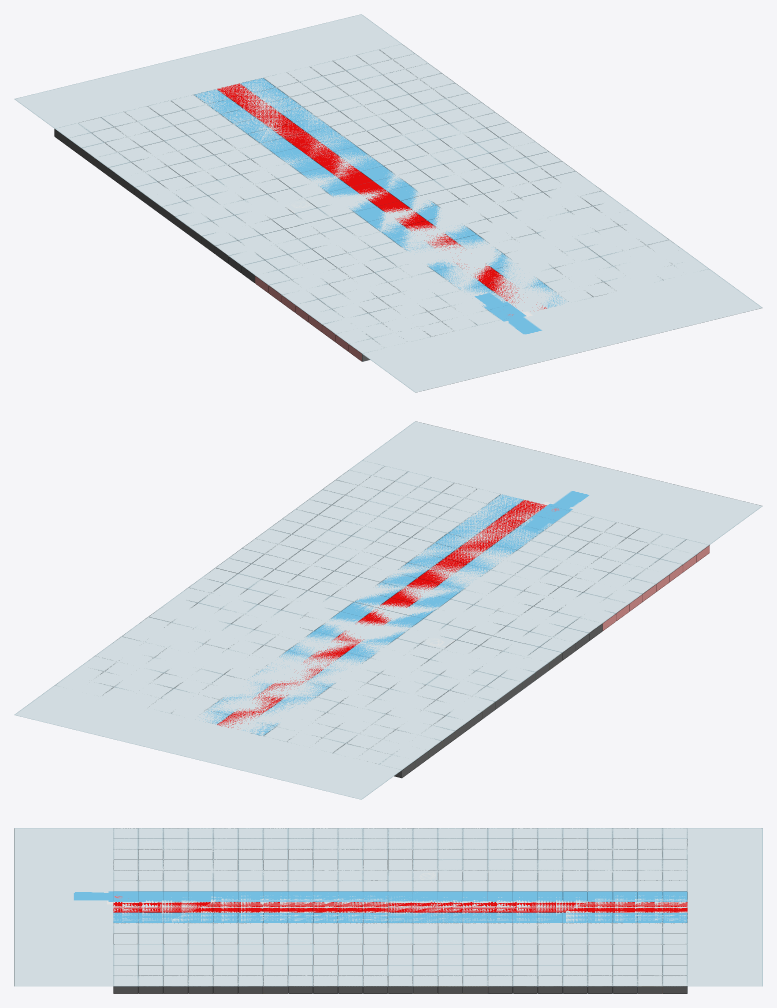
Rendered from ER_LevelSegment_V4.fbx.
3 renders of one model, top to bottom at view 1: azimuth 30°, elevation 25°; view 2: azimuth 150°, elevation 25°; view 3: azimuth 270°, elevation 25°, orthographic. The views are drawn at different scales.
Parts seen in each view (by area): view 1: Floor, Row 15x23; view 2: Floor, Row 15x23; view 3: Row 15x23, Floor.
Boxes of the visible parts, x1,y1,x2,y2 form: Floor: (14,14,762,392); Row 15x23: (54,44,708,361); Floor: (14,421,762,799); Row 15x23: (55,460,709,778); Row 15x23: (113,828,687,993); Floor: (14,828,762,986).
Bounding box in the file's own units: 4500 × 100 × 9000.
Materials: 2 (2 with a texture image).
